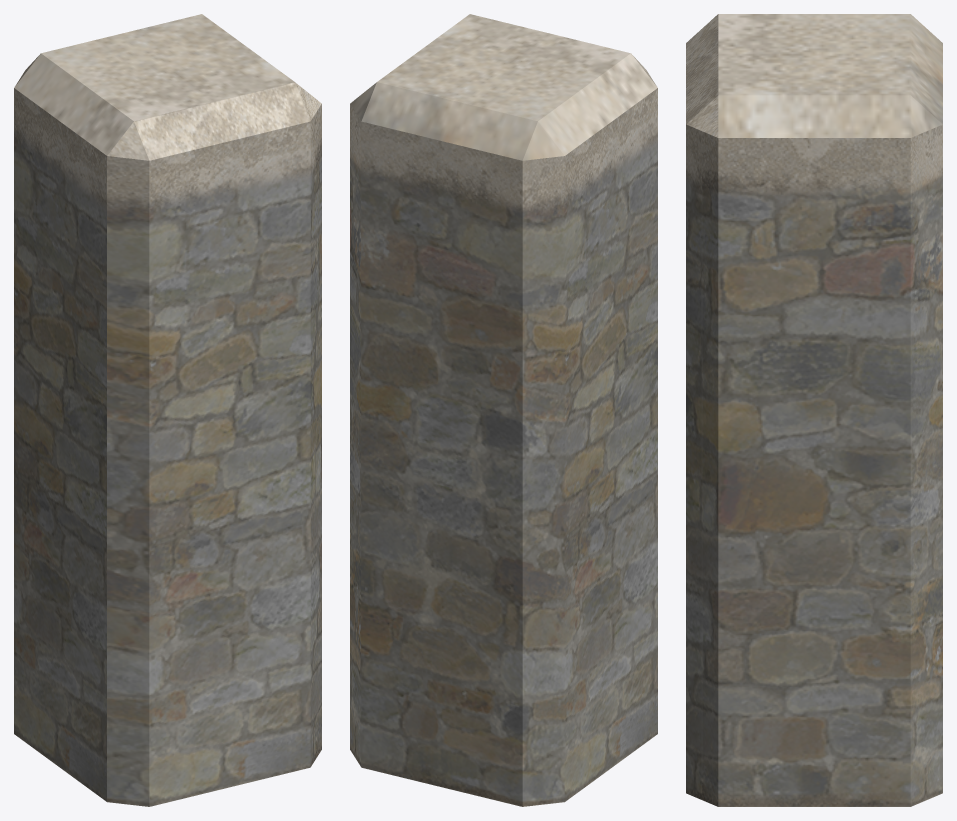
The model's file is Stand.glb.
3 views of the same model, side by side, from view 1: azimuth 30°, elevation 25°; view 2: azimuth 150°, elevation 25°; view 3: azimuth 270°, elevation 25° (orthographic). The views are drawn at different scales.
Visible parts, largest first — view 1: Stand; view 2: Stand; view 3: Stand.
Boxes of the visible parts, left/top/right/bottom form: Stand: left=14, top=14, right=321, bottom=806; Stand: left=350, top=14, right=657, bottom=806; Stand: left=686, top=14, right=942, bottom=806.
Bounding box in the file's own units: 0.01 × 0.03 × 0.01.
Materials: 1 (1 with a texture image).
